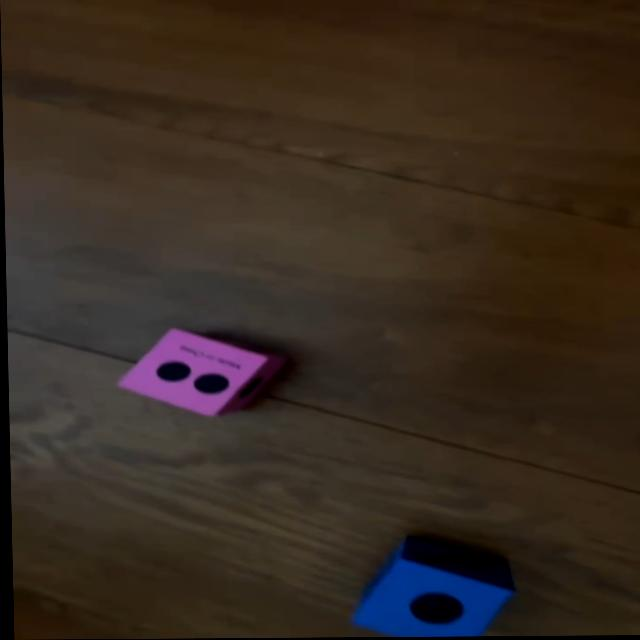blue_block: (347, 535, 511, 638)
